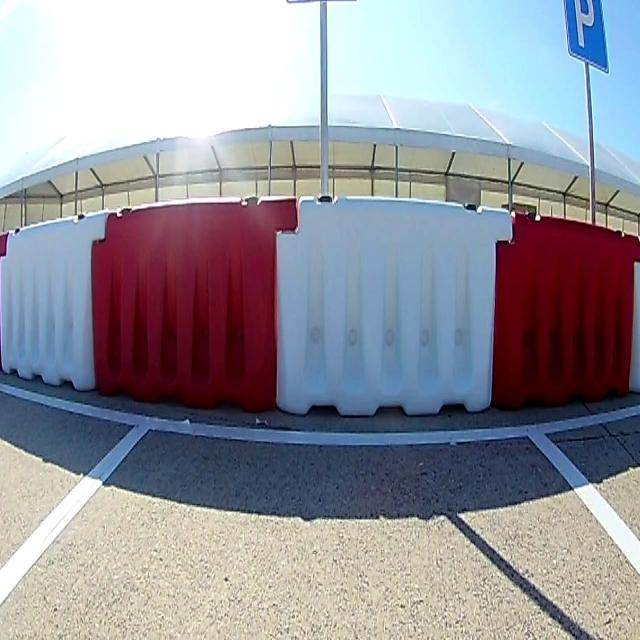park: (564, 1, 608, 71)
